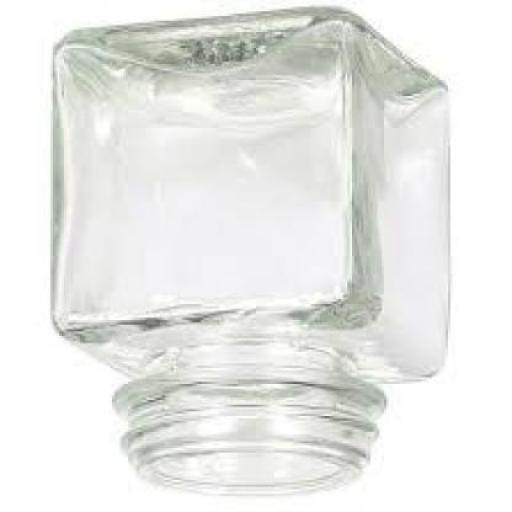glass: (52, 11, 455, 499)
